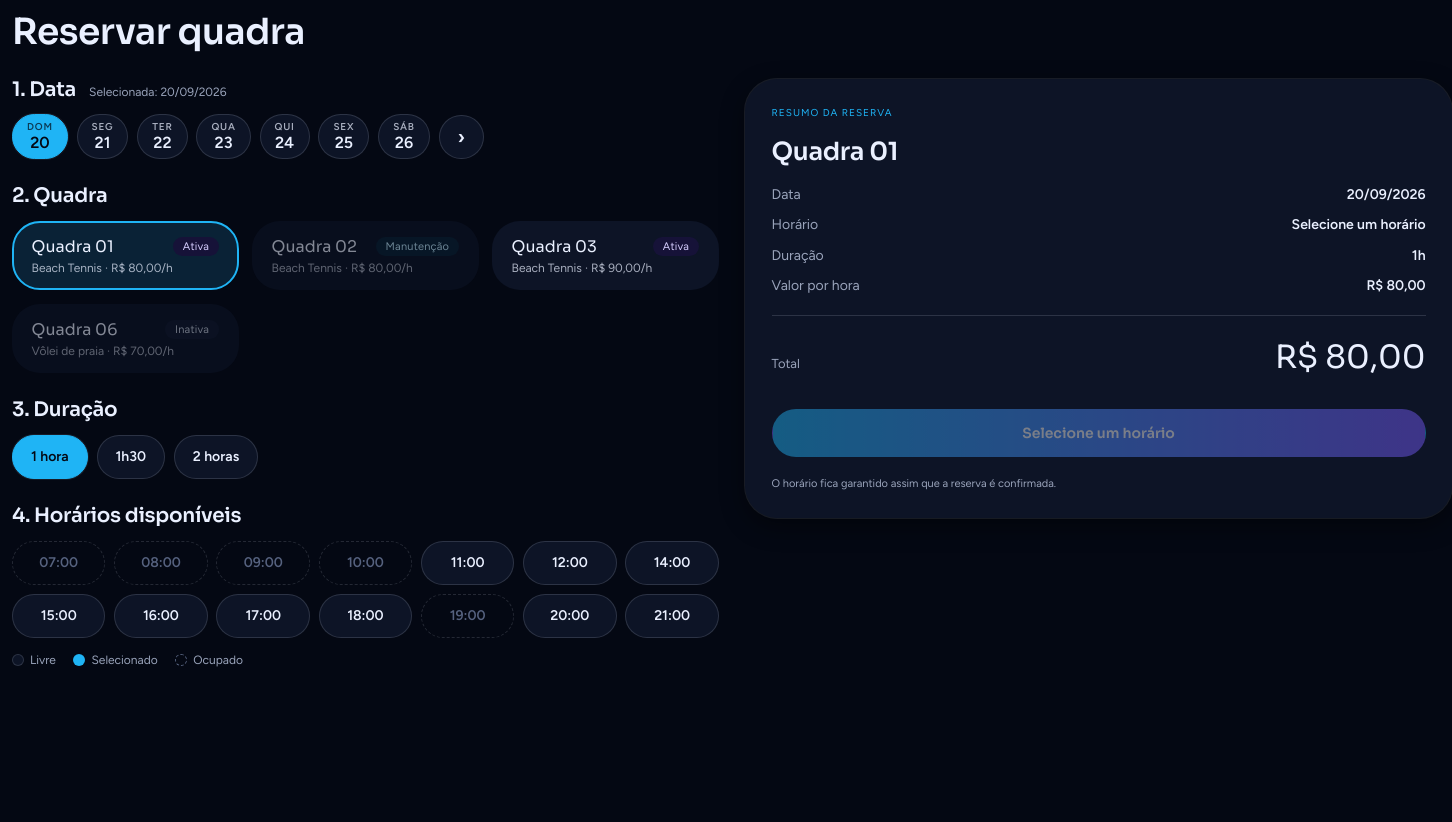
it: ReservarPage › limpa o horário ao trocar a duração e atualiza o resumo
Click the button "18:00" at (365, 616), box [319,594,412,638]
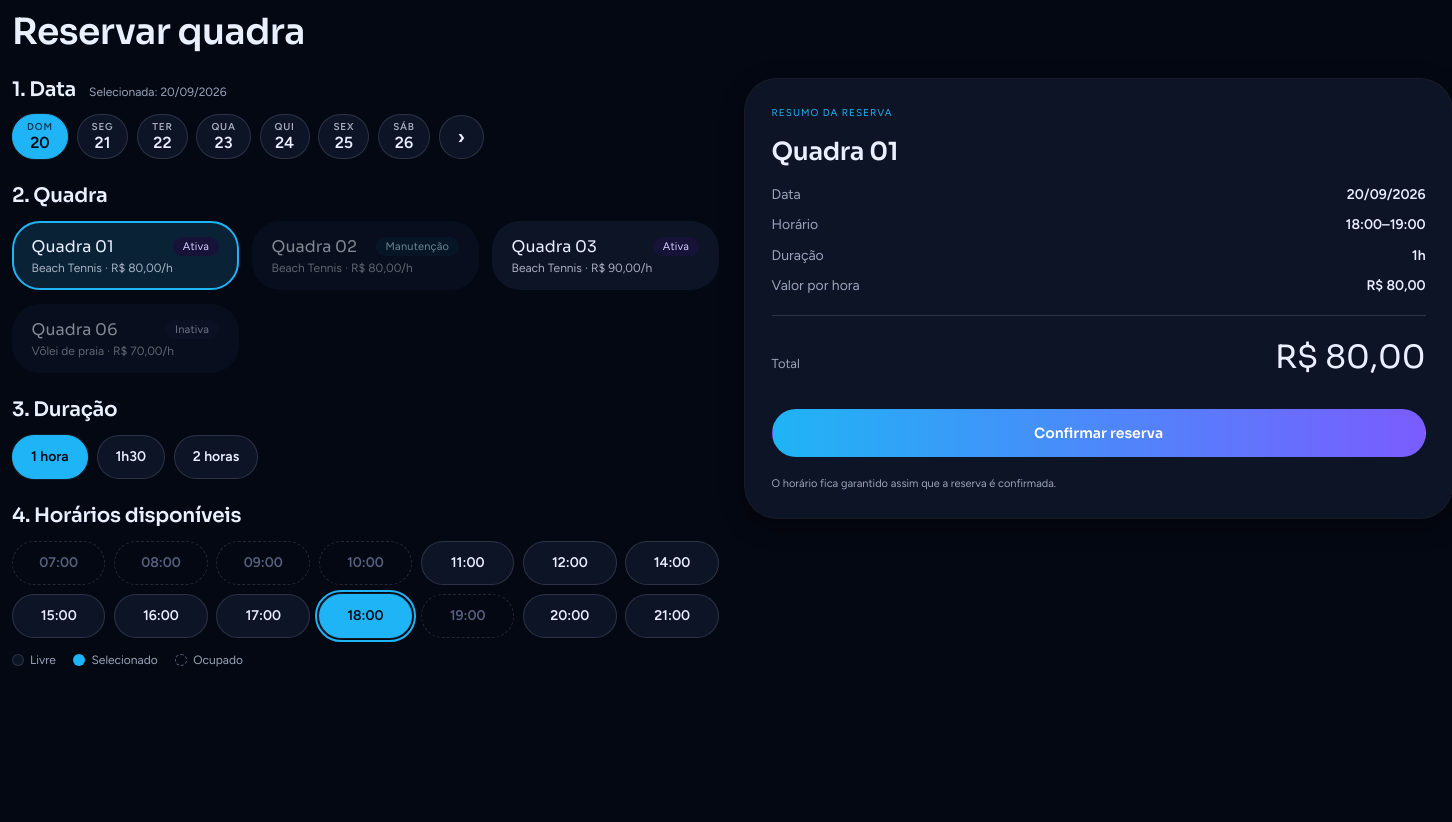
Check: the text "18:00–19:00" is shown, box [1346,214,1426,236]
Check: the button "Confirmar reserva" is shown, box [772,409,1426,457]
Check: the button "Confirmar reserva" is enabled, box [772,409,1426,457]
Click the button "2 horas" at (216, 457), box [174,435,258,479]
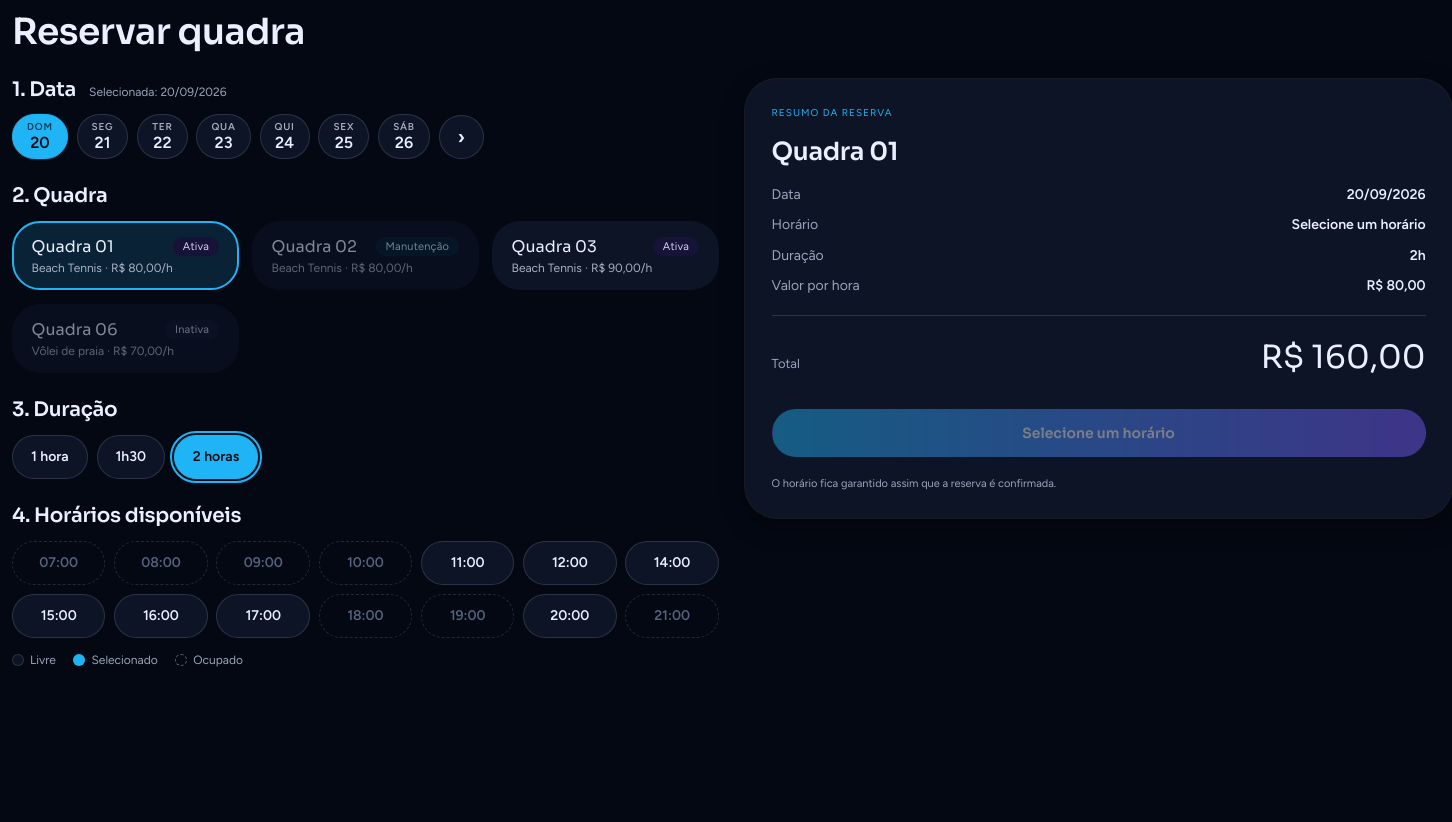
Check: the button "Selecione um horário" is shown, box [772,409,1426,457]
Check: the text "2h" is shown, box [1410,245,1426,266]
Check: the text "R$ 160,00" is shown, box [1261,333,1426,383]
